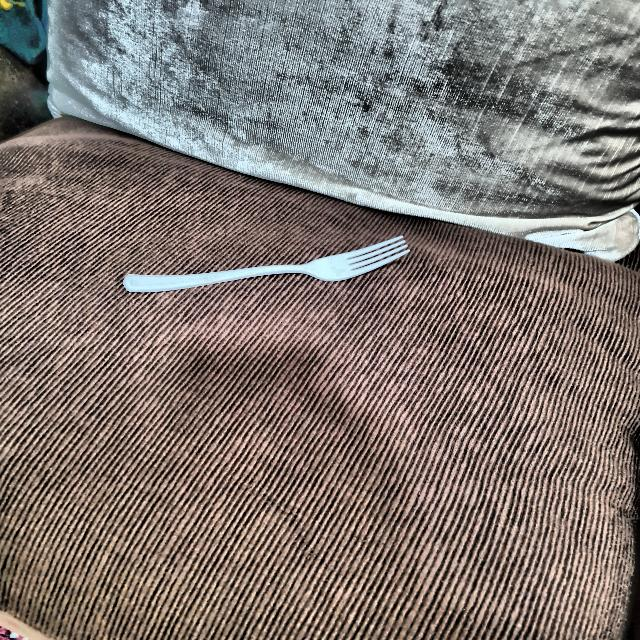plastic utensil: (119, 234, 420, 304)
